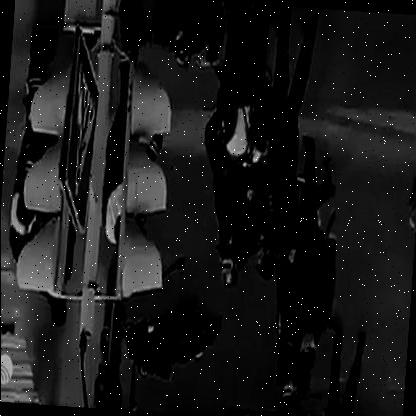rifle: (324, 205, 339, 240)
